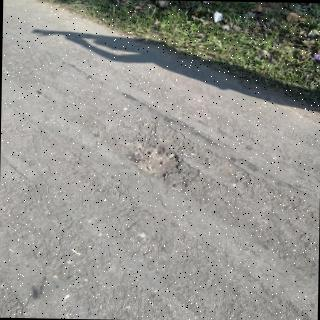pothole: (128, 146, 198, 186)
